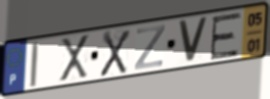E: (208, 10, 243, 62)
I: (28, 40, 40, 89)
V: (176, 16, 210, 64)
X: (99, 28, 132, 79), (59, 33, 91, 84)
Z: (133, 23, 168, 73)
